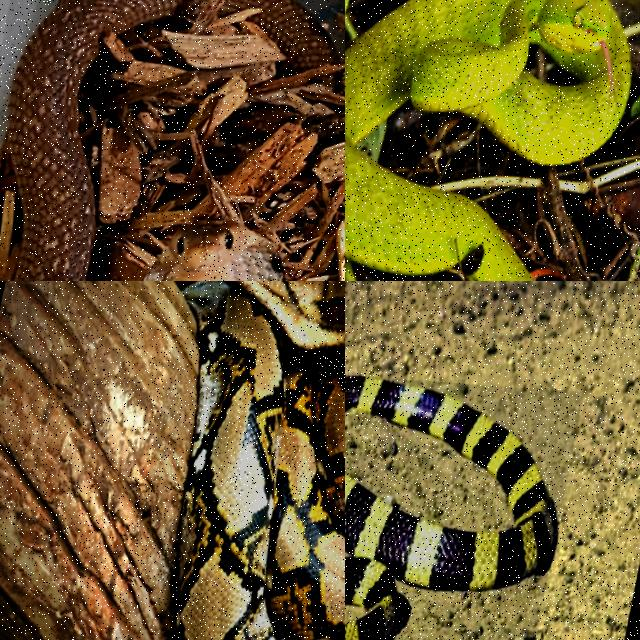Bungarus fasciatus: (345, 376, 556, 639)
Malayopython reticulatus: (176, 281, 344, 639)
Naja kaouthia: (5, 0, 205, 280)
Trimeresurus: (345, 0, 630, 280)
snake: (345, 0, 630, 280), (176, 281, 344, 639), (5, 0, 205, 280), (345, 376, 556, 639)
